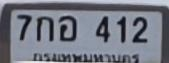1: (116, 14, 125, 42)
2: (131, 16, 146, 42)
4: (95, 14, 109, 42)
7: (16, 14, 31, 40)
A01: (35, 15, 53, 41)
A43: (58, 15, 76, 40)
BKK: (31, 51, 142, 63)
